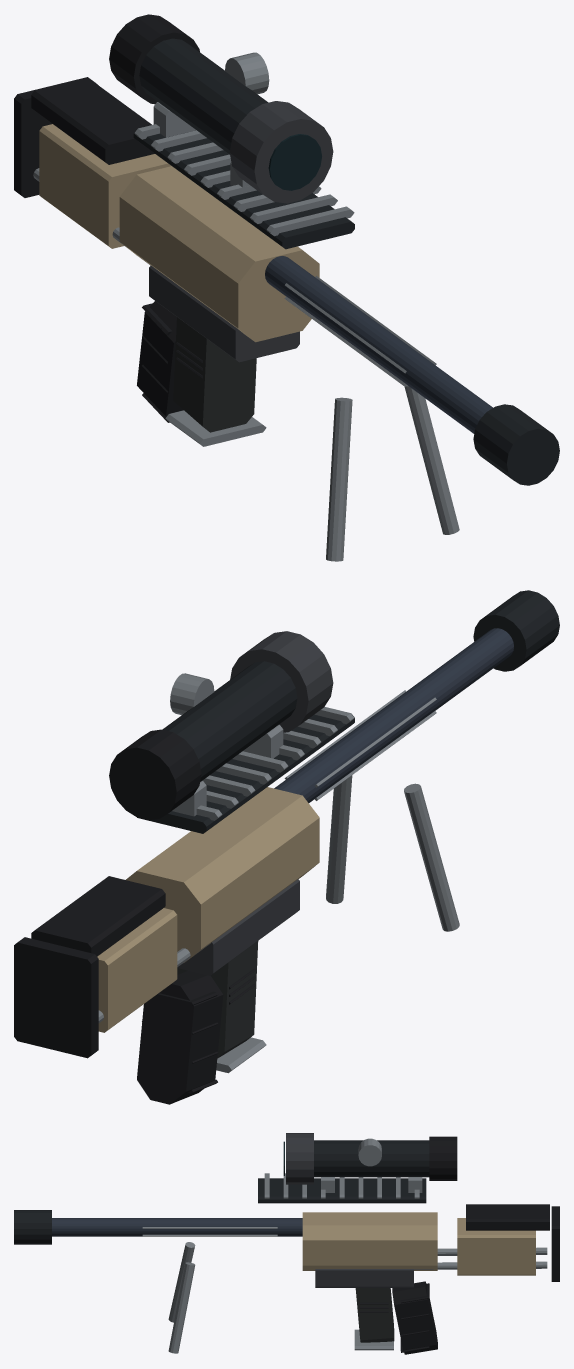
File: 06_Specter308_Sniper_Rifle.obj
The picture shows the model from 3 angles, top to bottom: view 1: azimuth 30°, elevation 25°; view 2: azimuth 150°, elevation 25°; view 3: azimuth 270°, elevation 25°; orthographic projection. The views are drawn at different scales.
Parts seen in each view (by area): view 1: 000_Precision_Chassis, 002_Long_Fluted_Barrel, 033_ScopeBody, 008_Skeletonized_Stock, 013_Magazine, 009_Cheek_Rest, 034_ScopeBell, 003_Muzzle_Brake, 023_Top_Picatinny, 001_Chassis_Underbody, 018_Angled_Grip, 035_ScopeEyepiece (+9 smaller); view 2: 000_Precision_Chassis, 010_Butt, 018_Angled_Grip, 002_Long_Fluted_Barrel, 033_ScopeBody, 008_Skeletonized_Stock, 035_ScopeEyepiece, 009_Cheek_Rest, 034_ScopeBell, 003_Muzzle_Brake, 001_Chassis_Underbody, 023_Top_Picatinny (+6 smaller); view 3: 000_Precision_Chassis, 002_Long_Fluted_Barrel, 033_ScopeBody, 008_Skeletonized_Stock, 023_Top_Picatinny, 018_Angled_Grip, 009_Cheek_Rest, 001_Chassis_Underbody, 013_Magazine, 034_ScopeBell, 003_Muzzle_Brake, 035_ScopeEyepiece (+6 smaller).
Boxes of the visible parts, x1,y1,x2,y2 form: 000_Precision_Chassis: (119, 166, 319, 342); 002_Long_Fluted_Barrel: (265, 256, 492, 433); 033_ScopeBody: (139, 38, 268, 154); 008_Skeletonized_Stock: (39, 124, 171, 248); 013_Magazine: (173, 317, 256, 432); 009_Cheek_Rest: (31, 77, 154, 164); 034_ScopeBell: (229, 101, 333, 203); 003_Muzzle_Brake: (473, 404, 559, 485); 023_Top_Picatinny: (133, 129, 354, 249); 001_Chassis_Underbody: (149, 265, 299, 362); 018_Angled_Grip: (137, 301, 183, 416); 035_ScopeEyepiece: (109, 14, 199, 104); 000_Precision_Chassis: (126, 787, 319, 962); 010_Butt: (14, 937, 98, 1058); 018_Angled_Grip: (137, 970, 223, 1104); 002_Long_Fluted_Barrel: (274, 628, 513, 802); 033_ScopeBody: (162, 661, 297, 781); 008_Skeletonized_Stock: (97, 908, 177, 1032); 035_ScopeEyepiece: (109, 729, 201, 820); 009_Cheek_Rest: (31, 876, 165, 956); 034_ScopeBell: (230, 631, 333, 732); 003_Muzzle_Brake: (473, 590, 559, 671); 001_Chassis_Underbody: (177, 879, 299, 975); 023_Top_Picatinny: (137, 713, 354, 833); 000_Precision_Chassis: (302, 1212, 437, 1270); 002_Long_Fluted_Barrel: (52, 1218, 302, 1236); 033_ScopeBody: (314, 1140, 429, 1177); 008_Skeletonized_Stock: (457, 1218, 535, 1275); 023_Top_Picatinny: (258, 1178, 426, 1203); 018_Angled_Grip: (392, 1281, 437, 1354); 009_Cheek_Rest: (466, 1204, 549, 1230); 001_Chassis_Underbody: (315, 1269, 413, 1287); 013_Magazine: (355, 1288, 394, 1342); 034_ScopeBell: (286, 1133, 313, 1184); 003_Muzzle_Brake: (14, 1210, 51, 1244); 035_ScopeEyepiece: (429, 1136, 457, 1180).
Size of the model in its own units: 0.3069 by 0.8551 by 1.94.
